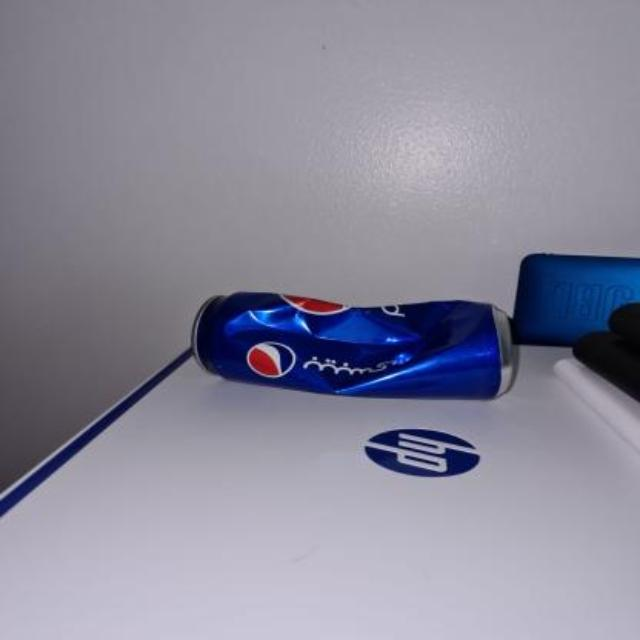metal: (191, 291, 512, 395)
